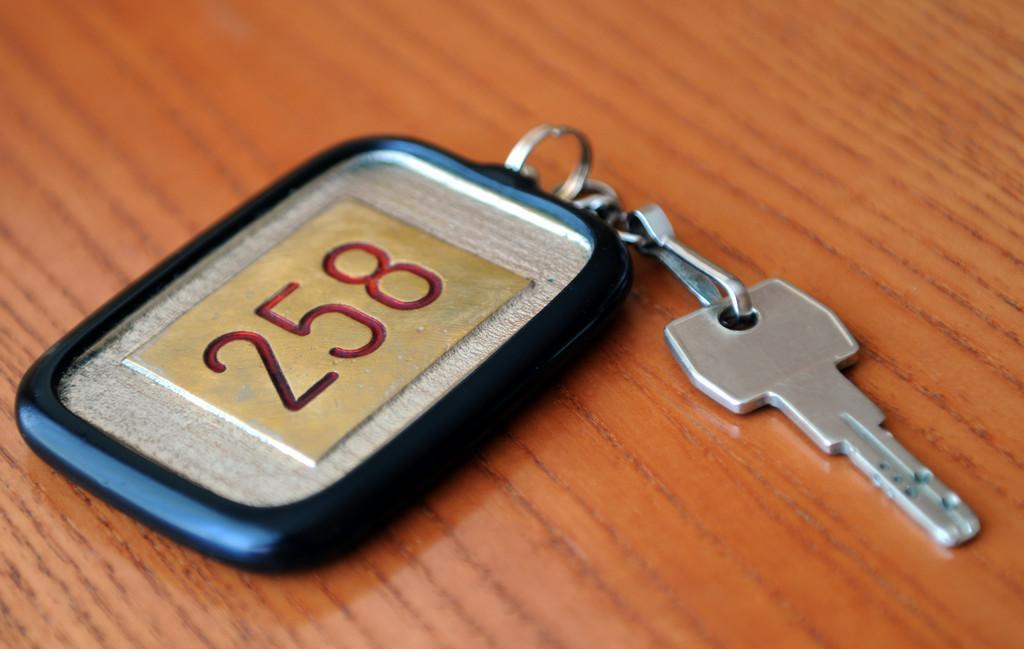key: (663, 264, 989, 564)
